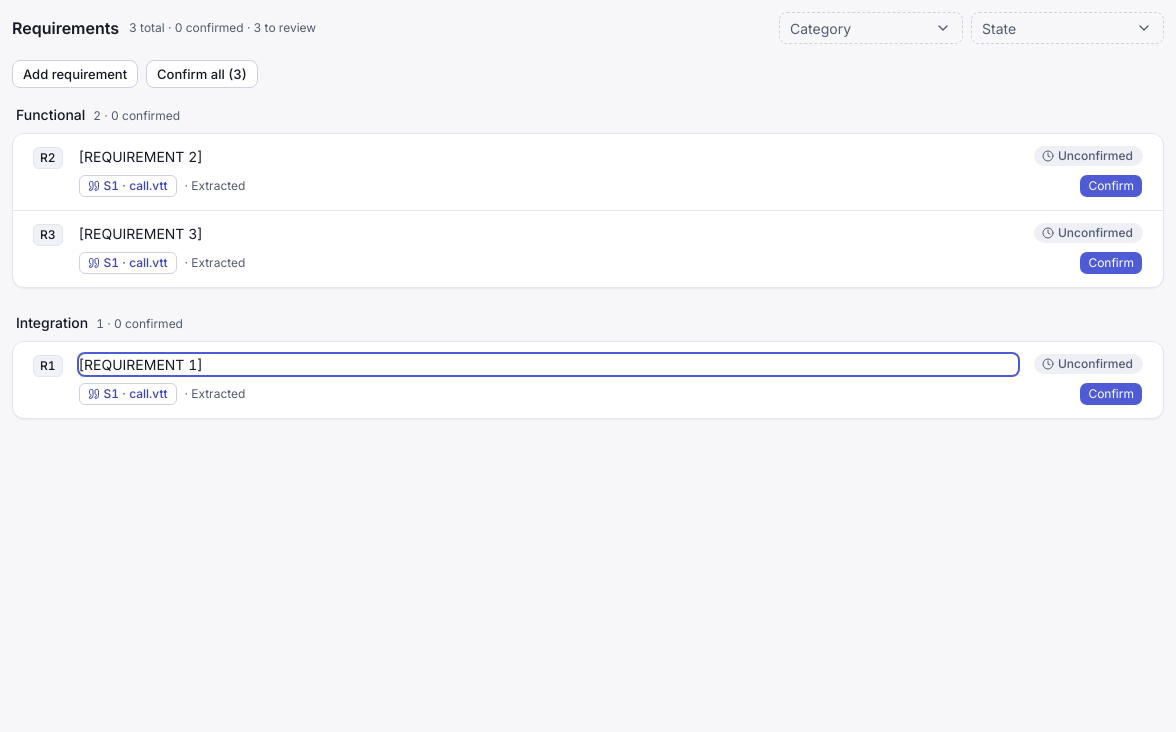
Scenario: selecting and merging › x toggles rows; with two selected, Merge (2) opens a prefilled form and merges
The width and height of the screenshot is (1176, 732).
Type keys "x"
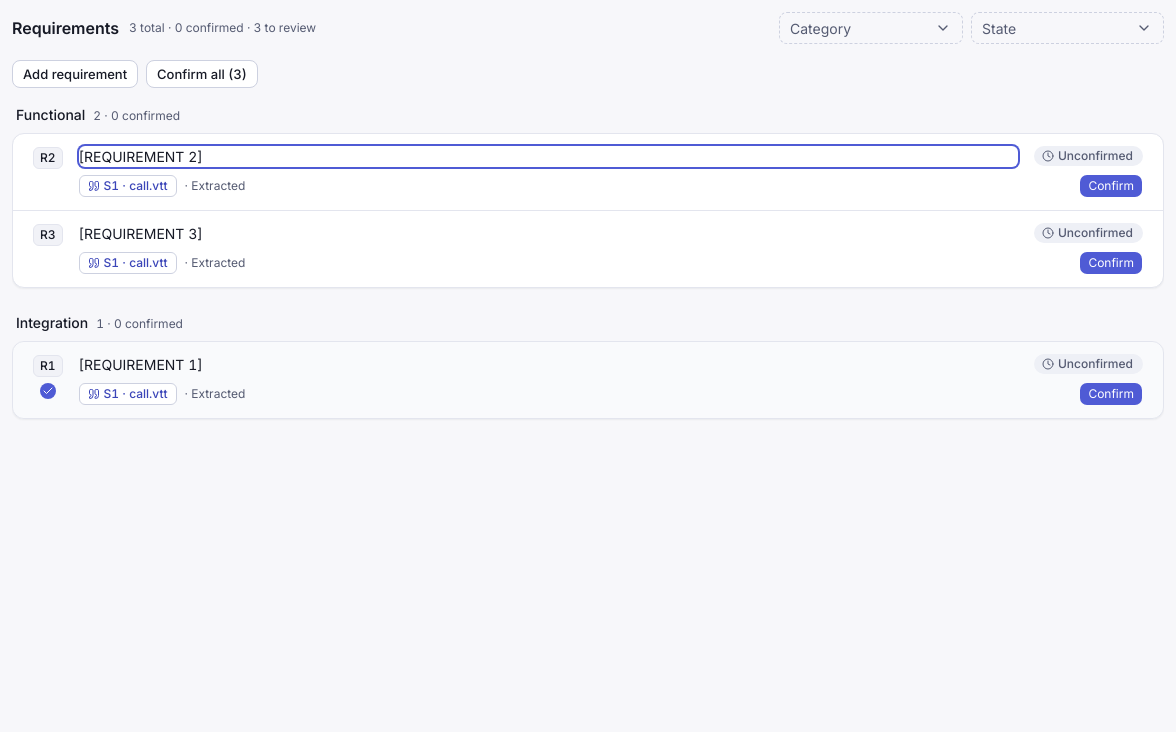
Type keys "x"
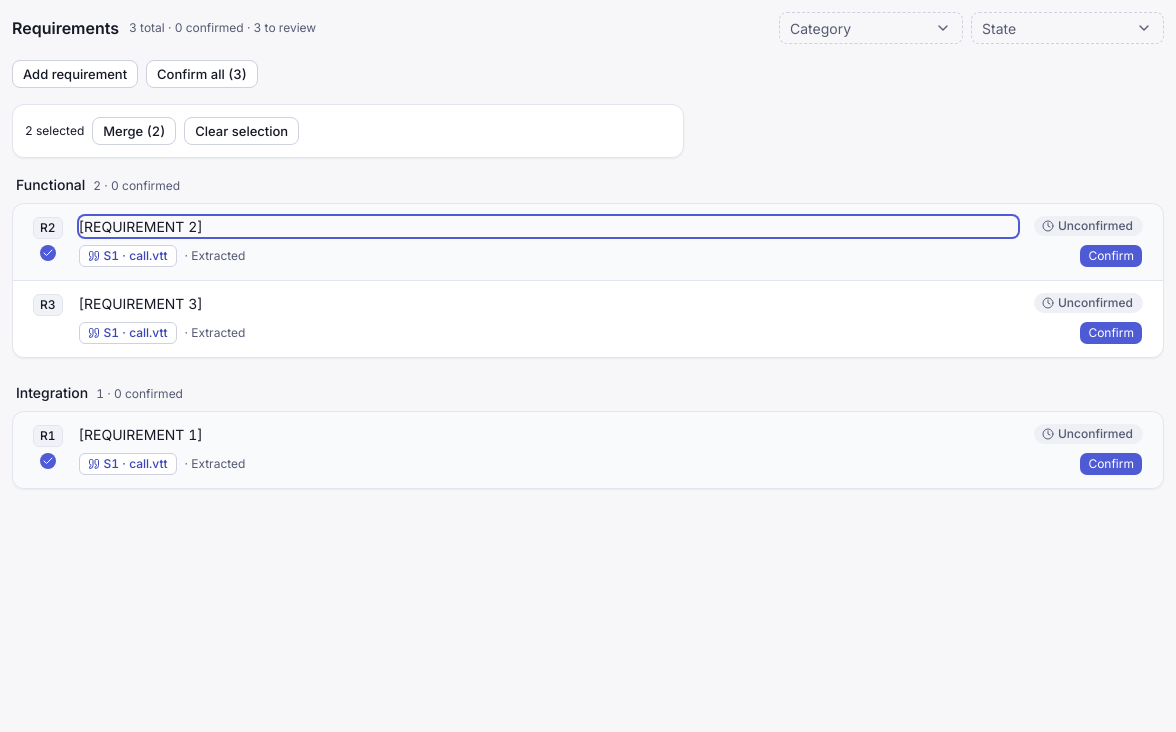
Click the button "Merge (2)".
click(134, 131)  # box x1=92 y1=117 x2=176 y2=145
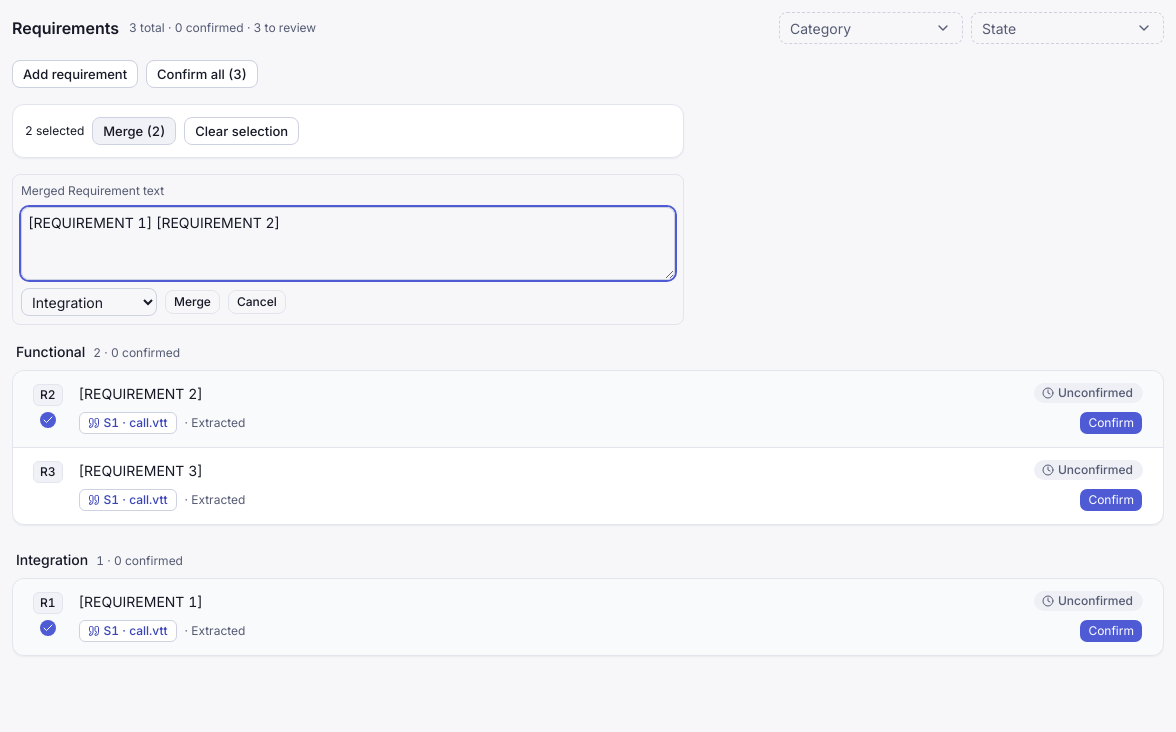
Expected: the text box labelled "Merged Requirement text" holds "[REQUIREMENT 1] [REQUIREMENT 2]"
Expected: the dropdown named "Merged Requirement classification" shows "Integration", x1=21 y1=288 x2=157 y2=316
Replace the text in the text box labelled "Merged Requirement text" with "Merged text" at (348, 244), box x1=21 y1=207 x2=675 y2=280
Then press Enter
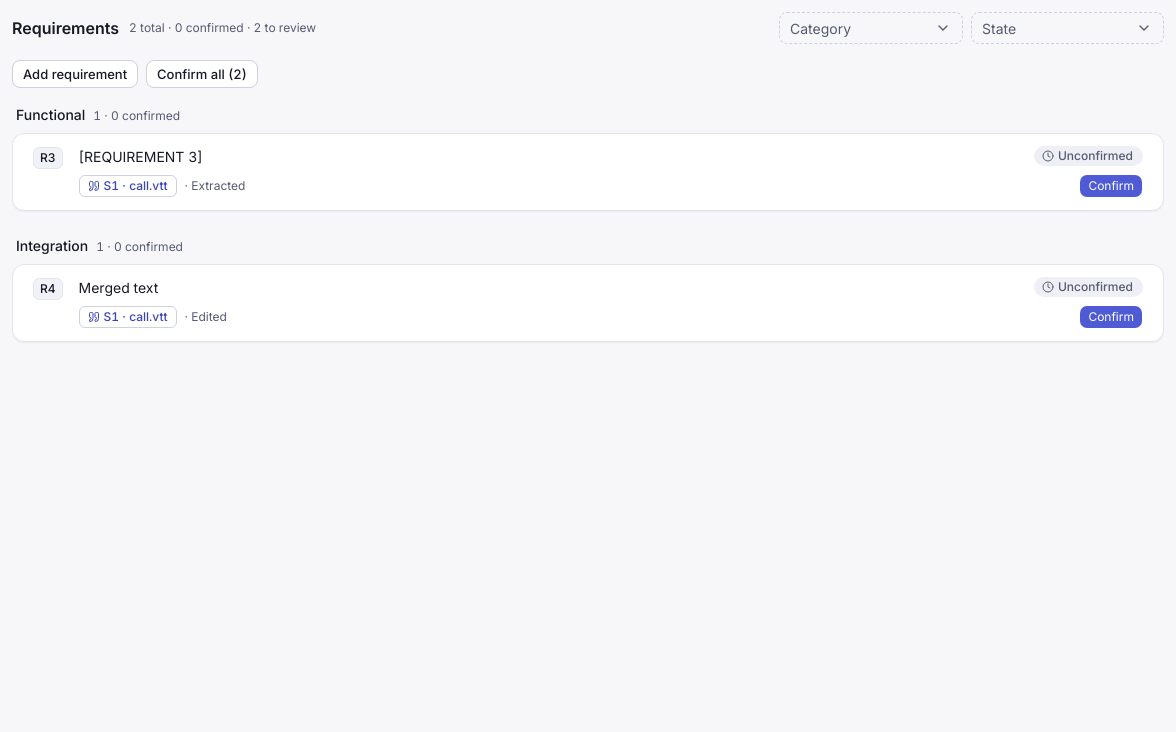
Expected: the button "[REQUIREMENT 1]" is not shown
Expected: the button "Merged text" is shown, x1=79 y1=277 x2=1018 y2=298
